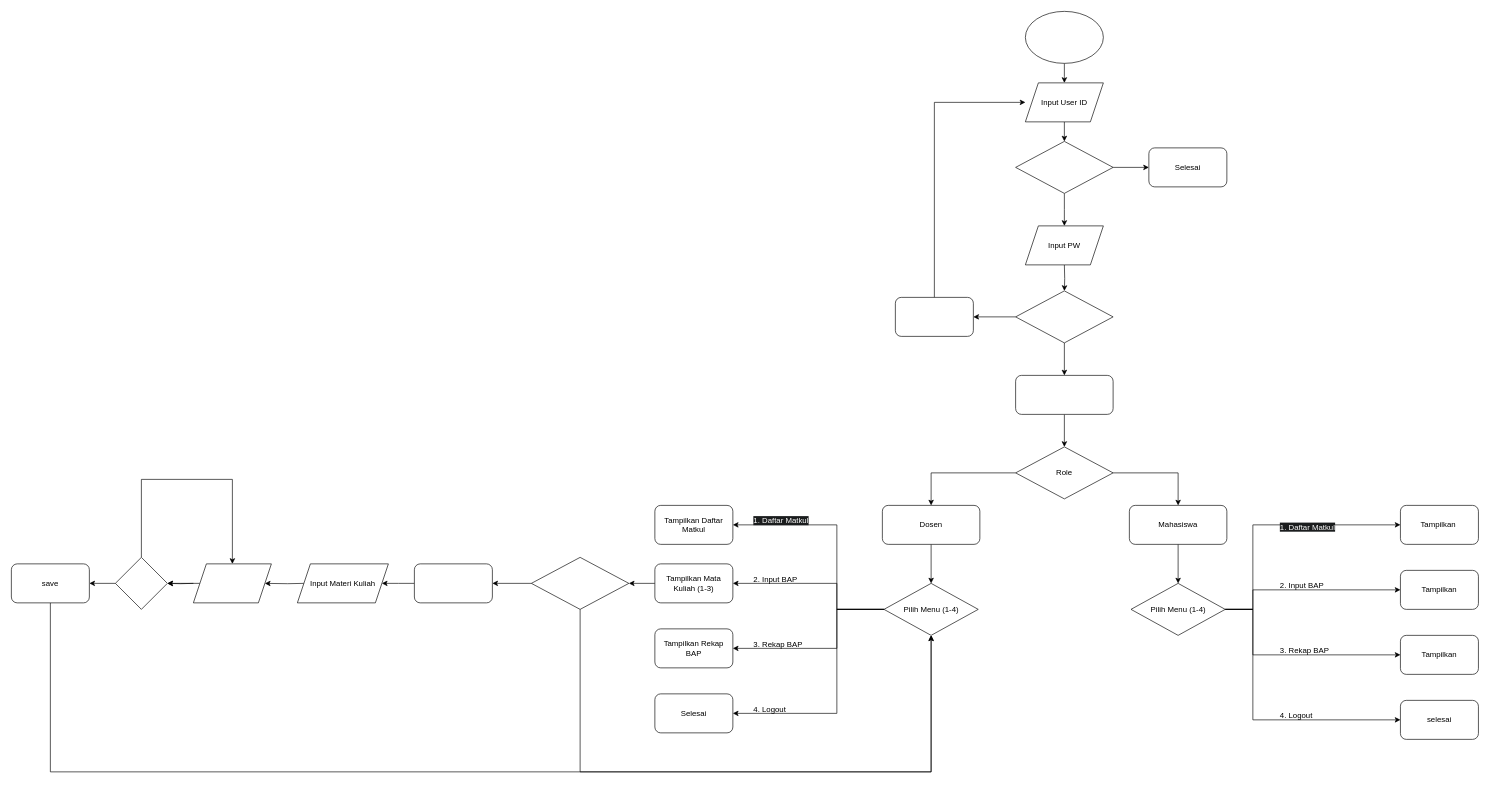
The diagram is 1490 pixels wide and 788 high, and some of its shapes have lost their labels. Here are the shapes that lost their labels. From the top down, the centre of each, then its label:
point 1064,37: Start
point 1064,167: ID = Exit?
point 934,316: Invalid
point 1064,316: ID & PW cocok?
point 1064,394: Tampilkan DashBoard
point 141,583: h/s/i/a
point 232,583: Input Presensi Mahasiswa
point 453,583: Pertemuan +1
point 580,583: Pilihan Valid?
